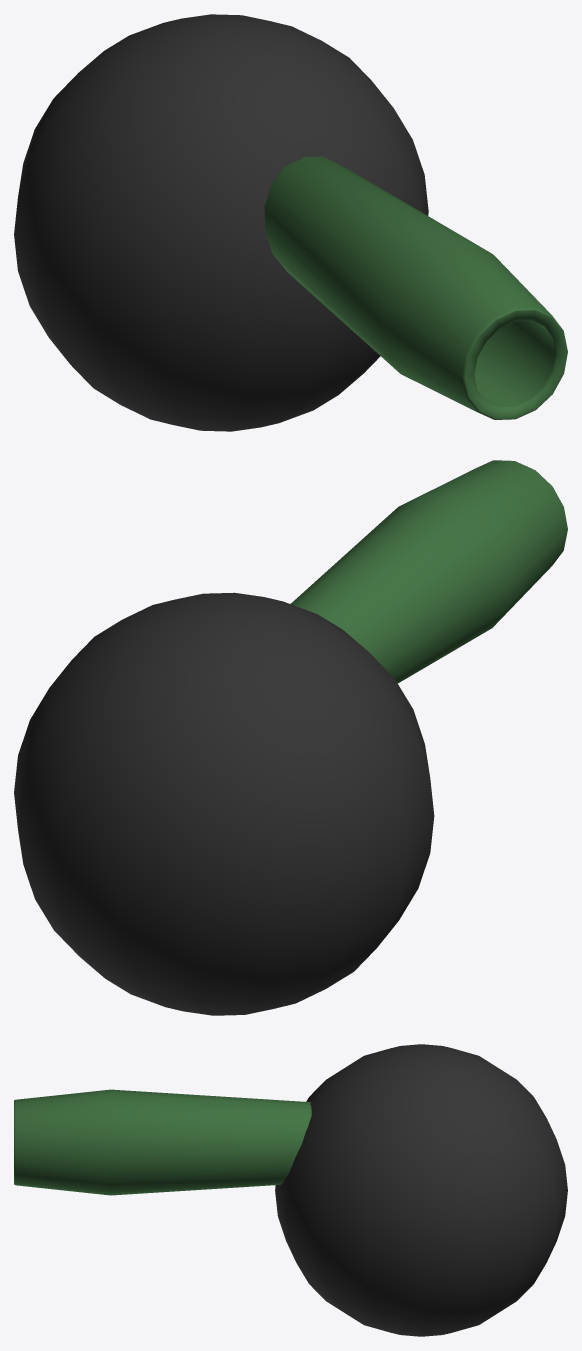
File: my_tank_1_turret.glb
3 renders of one model, top to bottom at view 1: azimuth 30°, elevation 25°; view 2: azimuth 150°, elevation 25°; view 3: azimuth 270°, elevation 25°, orthographic. The views are drawn at different scales.
Visible parts, largest first — view 1: Sphere, Cylinder; view 2: Sphere, Cylinder; view 3: Sphere, Cylinder.
Boxes of the visible parts, box(x1,y1,x2,y2) form: Sphere: box(14, 14, 428, 431); Cylinder: box(264, 156, 567, 419); Sphere: box(14, 592, 434, 1015); Cylinder: box(290, 460, 567, 683); Sphere: box(275, 1044, 567, 1336); Cylinder: box(14, 1089, 311, 1195).
Size of the model in its own units: 22 by 22 by 41.61.
